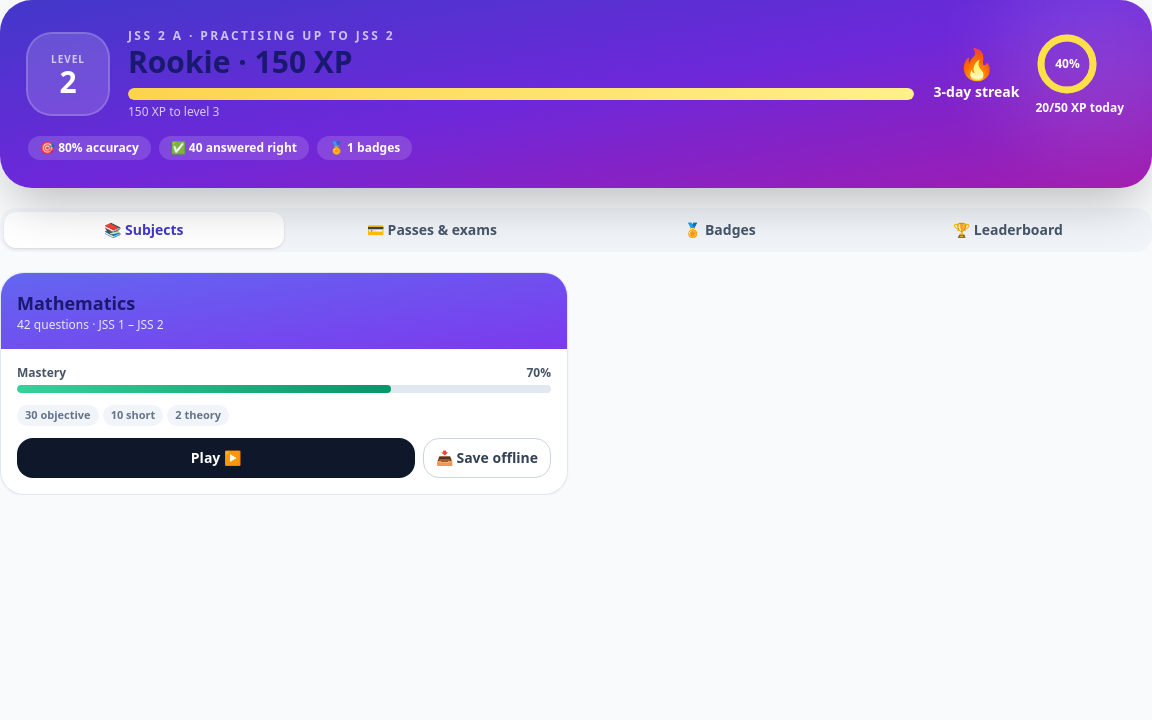
Test: the arena shows level, streak, subjects with mastery, badges and the class leaderboard
Check: the heading "Mathematics" is shown, box x1=17 y1=289 x2=135 y2=317
Check: the text "3-day streak" is shown, box x1=934 y1=82 x2=1020 y2=102
Click the tab "🏅 Badges" at (720, 230), box x1=580 y1=212 x2=860 y2=248
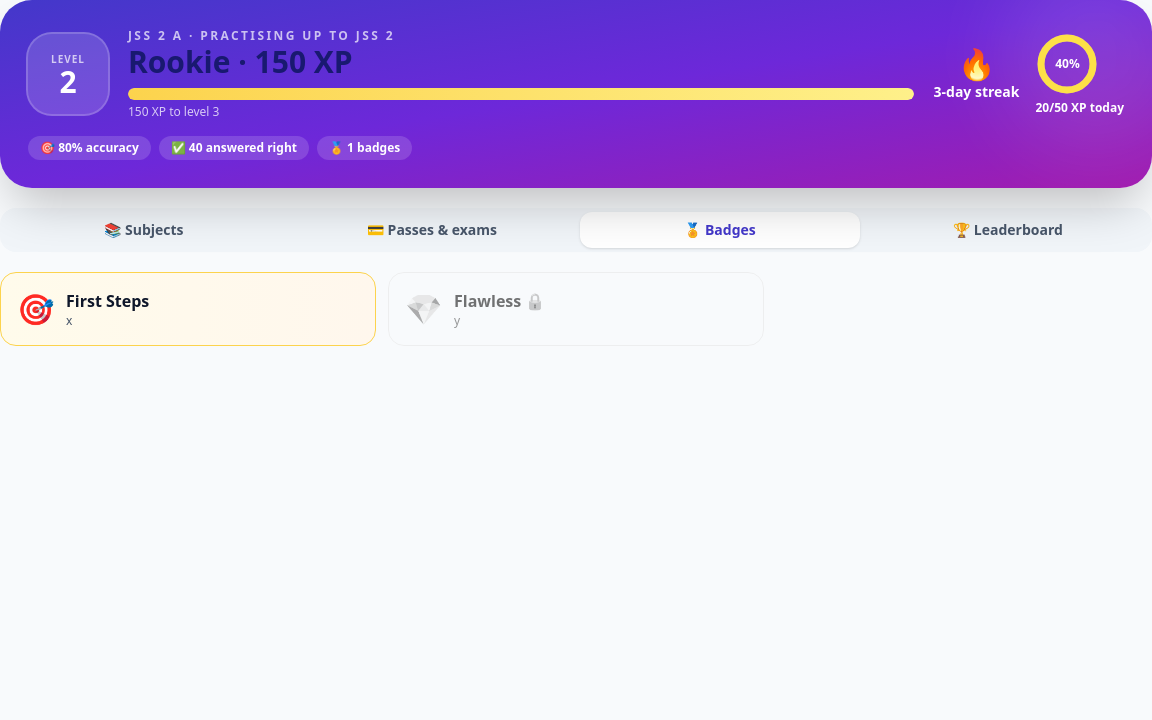
Check: the text "Flawless 🔒" is shown, box x1=454 y1=289 x2=545 y2=313
Click the tab "🏆 Leaderboard" at (1008, 230), box x1=868 y1=212 x2=1148 y2=248
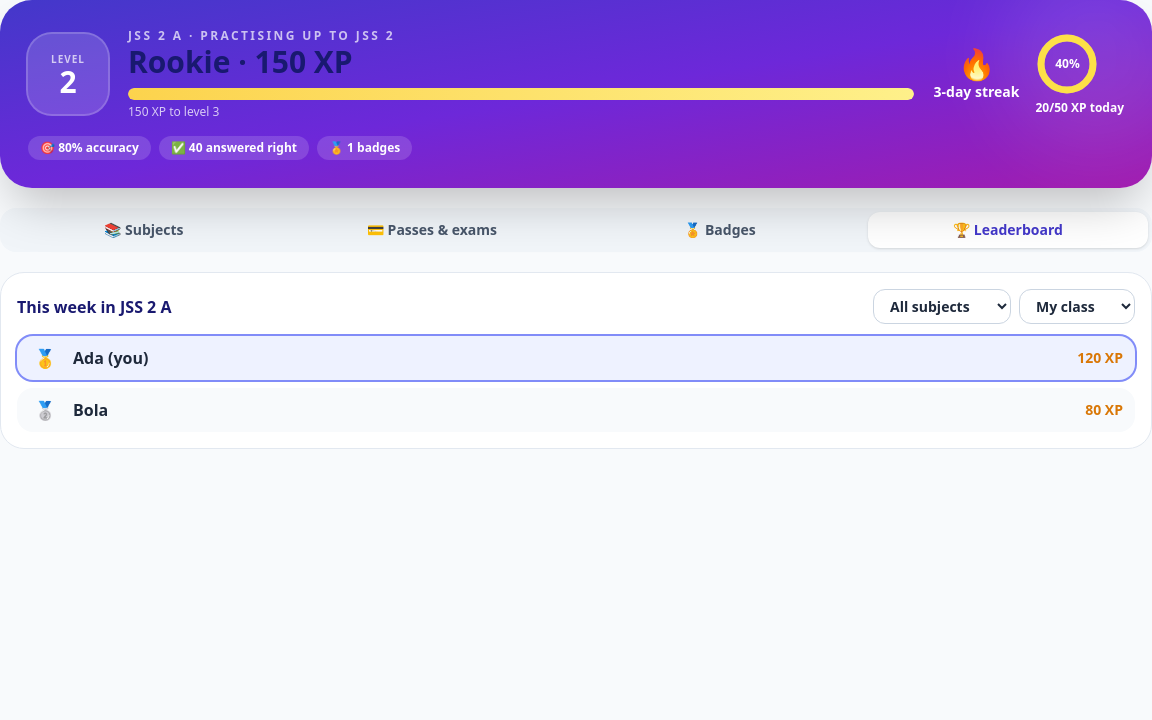
Check: the text "Ada (you)" is shown, box x1=73 y1=347 x2=148 y2=369
